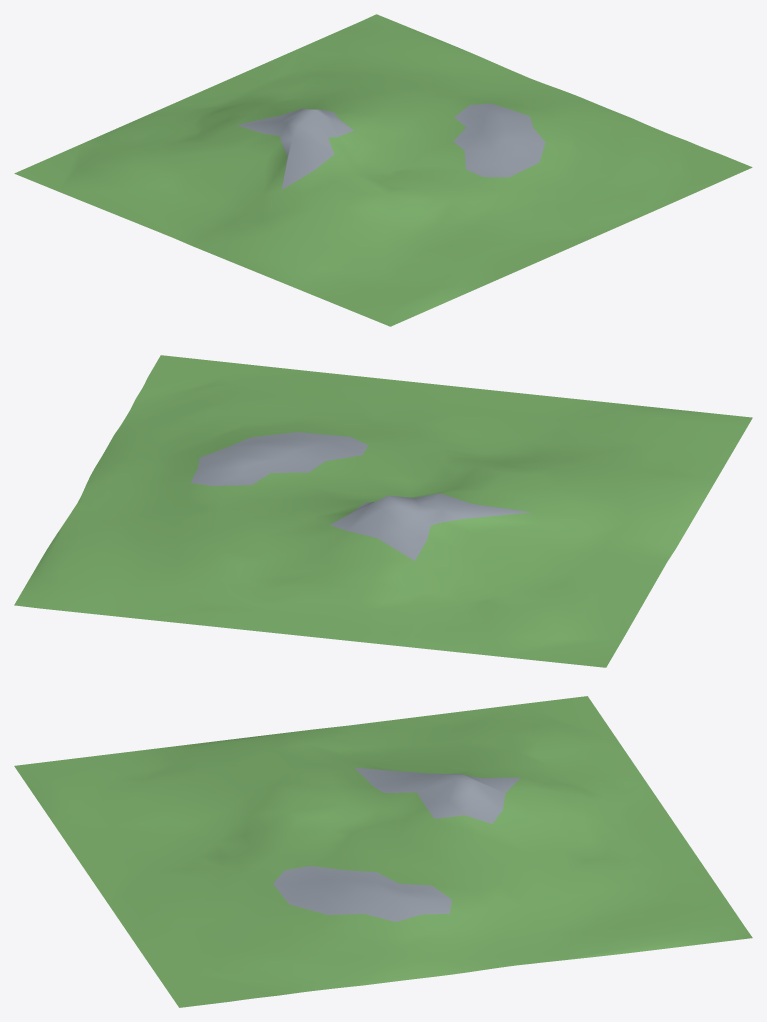
Rendered from SM_Mountains_15.obj.
The picture shows the model from 3 angles, top to bottom: view 1: azimuth 30°, elevation 25°; view 2: azimuth 150°, elevation 25°; view 3: azimuth 270°, elevation 25°; orthographic projection. The views are drawn at different scales.
Parts seen in each view (by area): view 1: SM_Mountains_15; view 2: SM_Mountains_15; view 3: SM_Mountains_15.
Part boxes in pixels (<box>): SM_Mountains_15: <box>14,14,752,326</box>; SM_Mountains_15: <box>14,355,752,667</box>; SM_Mountains_15: <box>14,696,752,1007</box>.
Bounding box in the file's own units: 13.47 × 1.06 × 13.47.
1 material, 1 textured.
